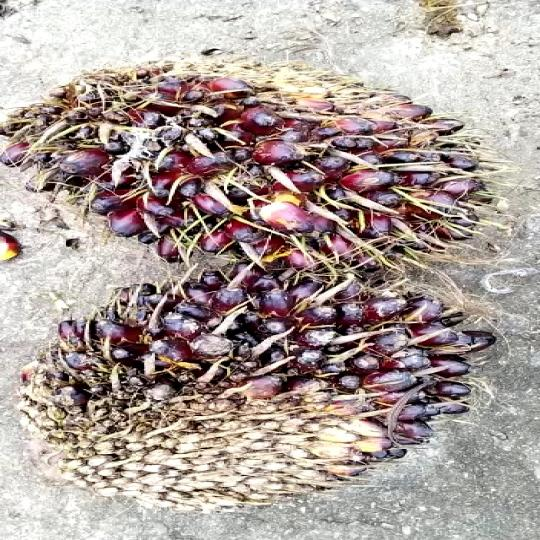kurang masak: (0, 51, 491, 279), (41, 269, 482, 519)
